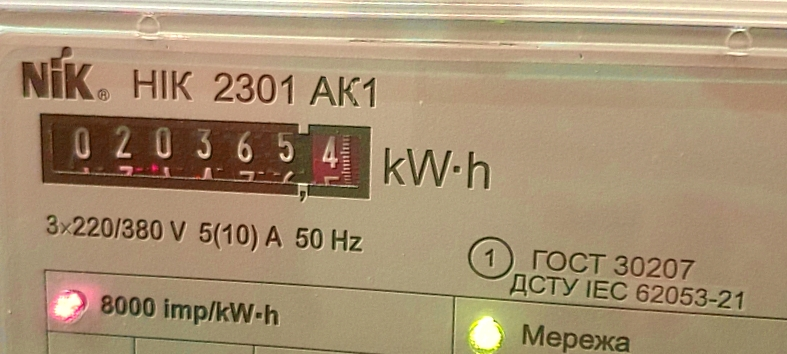0: (70, 125, 94, 161), (153, 124, 175, 162)
2: (110, 123, 135, 161)
3: (193, 125, 215, 161)
4: (319, 134, 341, 169)
5: (274, 130, 297, 164)
6: (234, 128, 256, 165)
screen: (17, 88, 393, 221)
